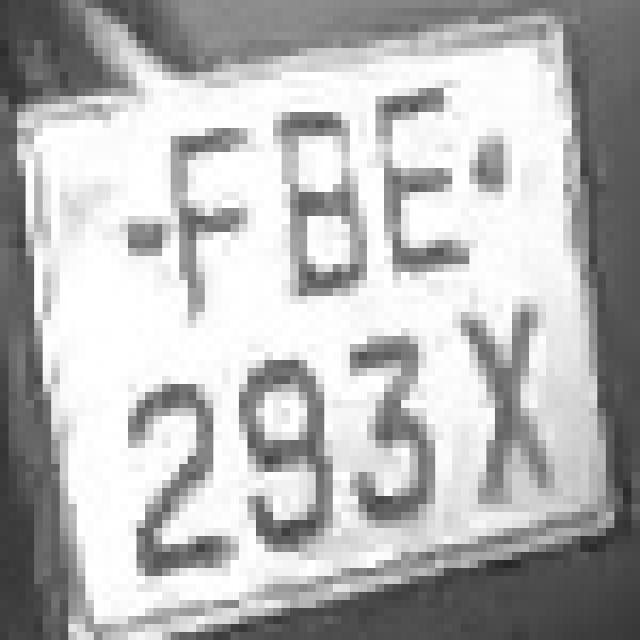2: (102, 376, 230, 600)
3: (316, 320, 435, 536)
9: (213, 352, 350, 576)
B: (256, 88, 375, 296)
E: (350, 64, 478, 288)
F: (145, 112, 256, 312)
X: (435, 280, 572, 528)
